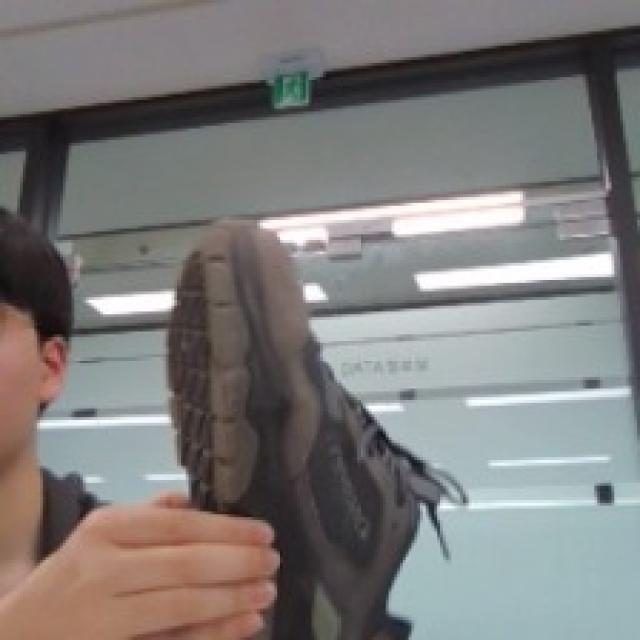shoe: (142, 225, 486, 640)
